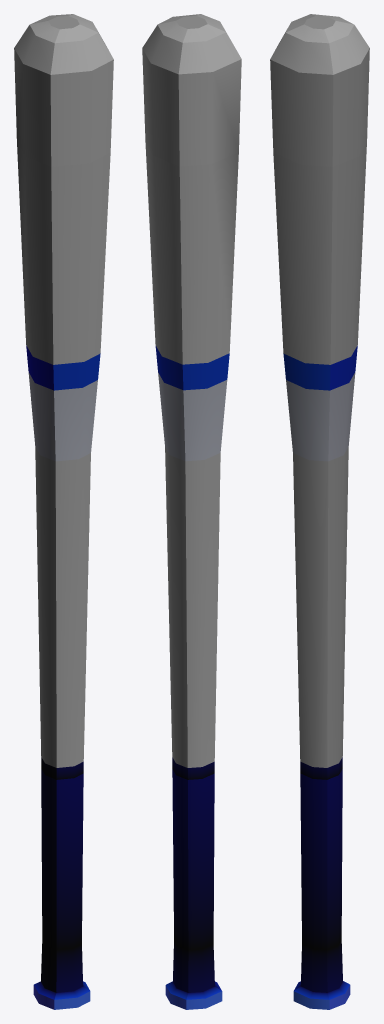
File: batMelee.fbx
3 views of the same model, side by side, from view 1: azimuth 30°, elevation 25°; view 2: azimuth 210°, elevation 25°; view 3: azimuth 330°, elevation 25° (orthographic).
Visible parts, largest first — view 1: pCube9; view 2: pCube9; view 3: pCube9.
Part boxes in pixels (box(x1,y1,x2,y2)): pCube9: box(14, 14, 113, 1009); pCube9: box(142, 14, 241, 1009); pCube9: box(270, 14, 369, 1009).
Bounding box in the file's own units: 6.26 × 71.34 × 6.45.
